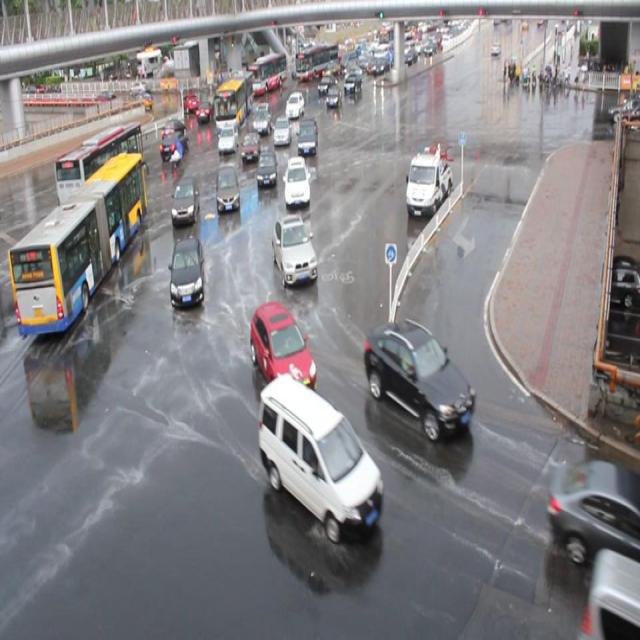bus: (404, 148, 452, 216)
car: (364, 317, 476, 442), (545, 457, 640, 567), (248, 300, 316, 398), (271, 212, 317, 283), (168, 237, 204, 305), (171, 176, 200, 226), (283, 156, 310, 203), (215, 165, 240, 211), (296, 116, 319, 154), (256, 148, 278, 186), (159, 132, 189, 156), (217, 123, 239, 152), (253, 102, 272, 134), (160, 118, 187, 140), (240, 131, 260, 159), (272, 115, 291, 143), (285, 90, 304, 116), (179, 91, 199, 113), (325, 84, 342, 107), (195, 100, 212, 122)
truck: (259, 374, 384, 540)
van: (8, 151, 148, 335), (54, 120, 144, 223), (214, 68, 254, 133)
